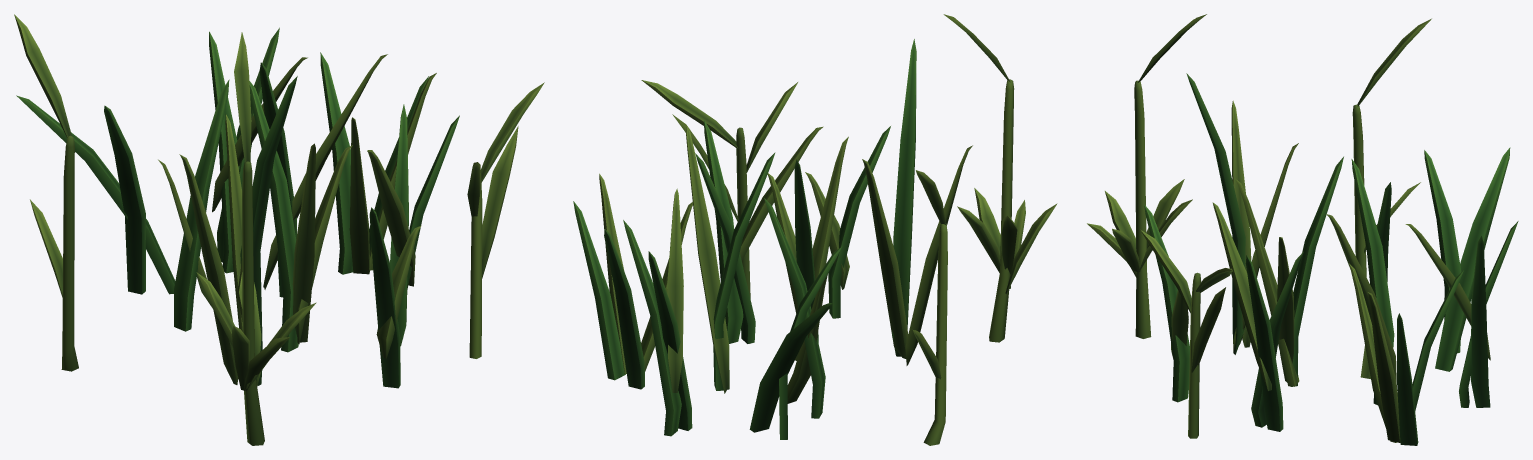
Rendered from SM_Plant_Barley_Lv1.fbx.
The picture shows the model from 3 angles, left to right: view 1: azimuth 30°, elevation 25°; view 2: azimuth 150°, elevation 25°; view 3: azimuth 270°, elevation 25°; orthographic projection. The views are drawn at different scales.
Parts seen in each view (by area): view 1: SM_Plant_Barley_Lv1; view 2: SM_Plant_Barley_Lv1; view 3: SM_Plant_Barley_Lv1.
Part boxes in pixels (x1,y1,x2,y2): SM_Plant_Barley_Lv1: [14, 14, 544, 445]; SM_Plant_Barley_Lv1: [573, 14, 1057, 445]; SM_Plant_Barley_Lv1: [1087, 14, 1518, 445].
Size of the model in its own units: 45.8 by 40.01 by 46.7.
